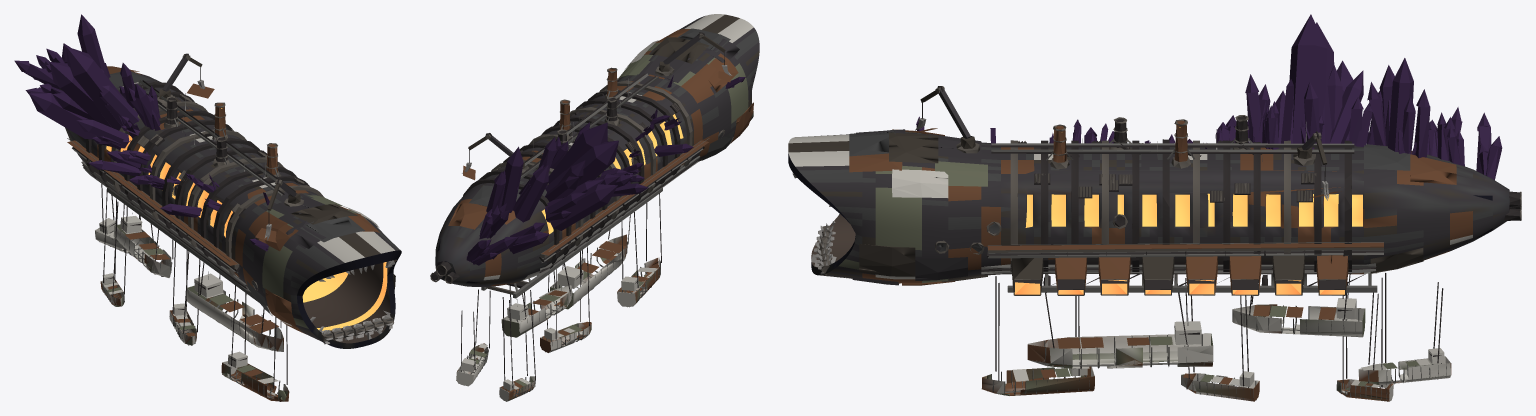
File: Ferrox_BienenstockFern.22ebf0f822.glb
3 views of the same model, side by side, from view 1: azimuth 30°, elevation 25°; view 2: azimuth 150°, elevation 25°; view 3: azimuth 270°, elevation 25° (orthographic). The views are drawn at different scales.
Visible parts, largest first — view 1: Ferrox_BienenstockFern; view 2: Ferrox_BienenstockFern; view 3: Ferrox_BienenstockFern.
Boxes of the visible parts, <box> form: Ferrox_BienenstockFern: <box>14,14,401,401</box>; Ferrox_BienenstockFern: <box>430,14,759,401</box>; Ferrox_BienenstockFern: <box>788,14,1521,401</box>.
Size of the model in its own units: 146 by 218 by 422.
